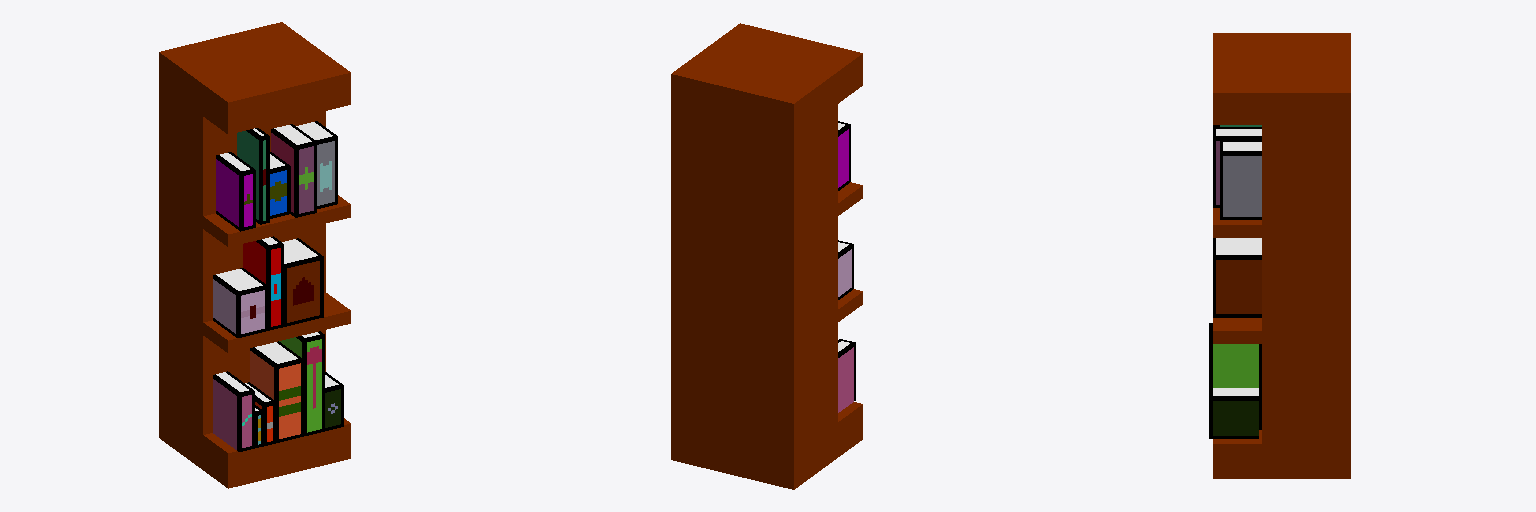
3 views of the same model, side by side, from view 1: azimuth 30°, elevation 25°; view 2: azimuth 150°, elevation 25°; view 3: azimuth 270°, elevation 25° (orthographic).
Parts seen in each view (by area): view 1: object 1; view 2: object 1; view 3: object 1.
Boxes of the visible parts, x1,y1,x2,y2 form: object 1: [159, 22, 350, 488]; object 1: [671, 23, 862, 489]; object 1: [1209, 33, 1350, 478].
Size of the model in its own units: 4 by 12 by 4.
1 materials, 1 textured.